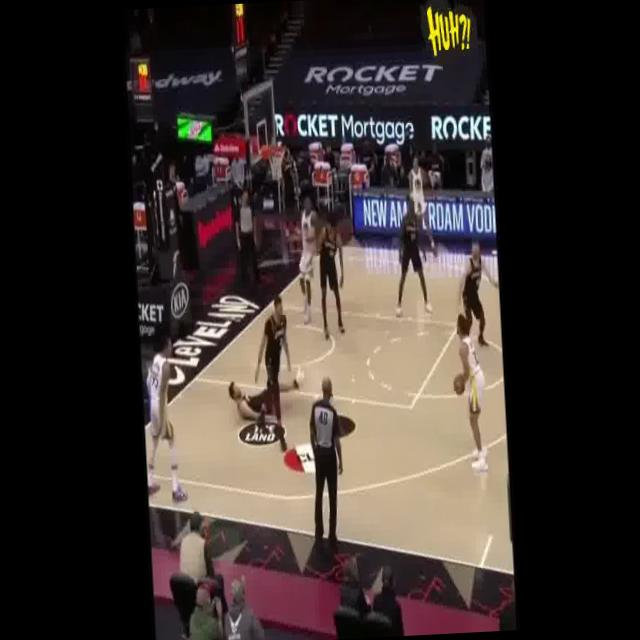ball-handler: (446, 304, 498, 478)
